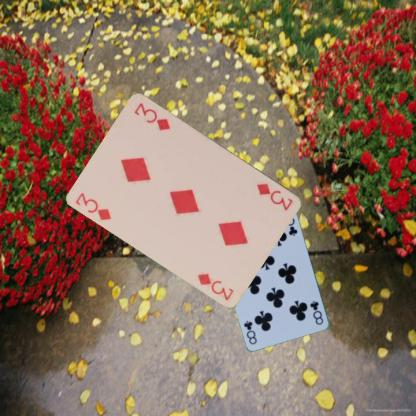3d: (254, 180, 295, 212), (74, 190, 114, 222)
8c: (307, 298, 325, 326)
